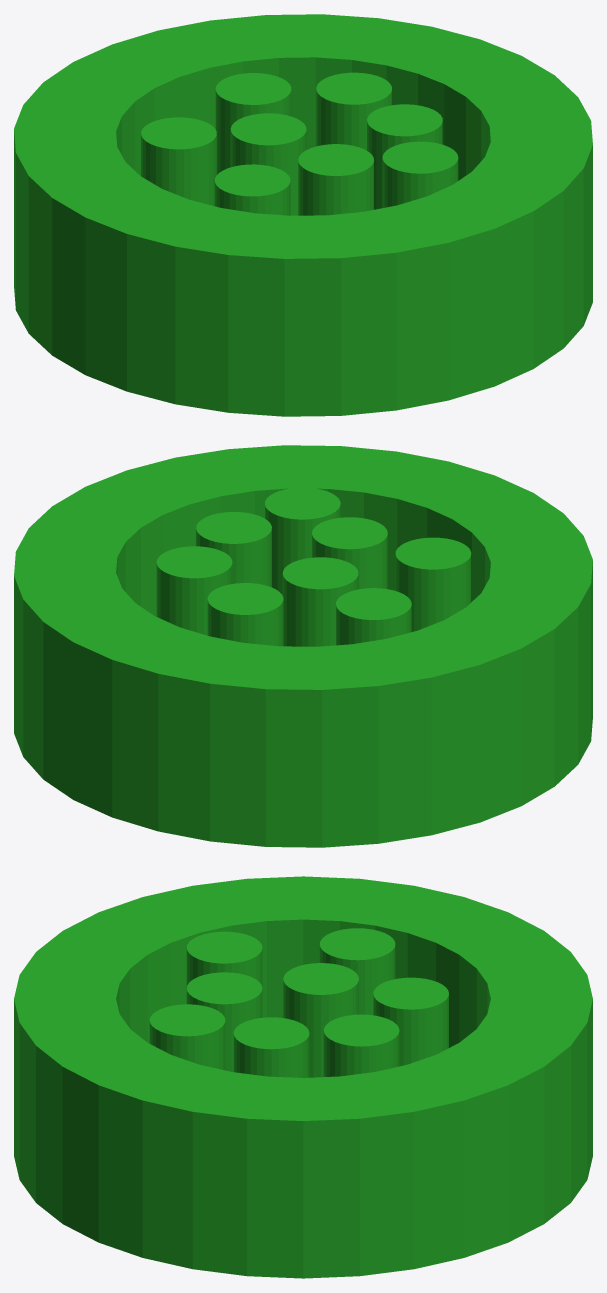
Rendered from heloma_miliar.gltf.
3 views of the same model, one above another, from view 1: azimuth 30°, elevation 25°; view 2: azimuth 150°, elevation 25°; view 3: azimuth 270°, elevation 25° (orthographic).
Visible parts, largest first — view 1: Cilindro, Cilindro.002, Cilindro.006, Cilindro.004, Cilindro.003, Cilindro.008, Cilindro.001, Cilindro.005, Cilindro.007; view 2: Cilindro, Cilindro.007, Cilindro.003, Cilindro.004, Cilindro.001, Cilindro.008, Cilindro.005, Cilindro.006, Cilindro.002; view 3: Cilindro, Cilindro.003, Cilindro.001, Cilindro.005, Cilindro.004, Cilindro.008, Cilindro.002, Cilindro.006, Cilindro.007.
Part boxes in pixels (box(x1,y1,x2,y2)): Cilindro: box(14, 14, 592, 416); Cilindro.002: box(141, 117, 216, 205); Cilindro.006: box(298, 144, 373, 215); Cilindro.004: box(316, 72, 391, 150); Cilindro.003: box(230, 113, 306, 215); Cilindro.008: box(382, 141, 458, 207); Cilindro.001: box(215, 73, 291, 174); Cilindro.005: box(367, 104, 442, 209); Cilindro.007: box(214, 164, 290, 215); Cilindro: box(14, 445, 592, 847); Cilindro.007: box(395, 537, 471, 631); Cilindro.003: box(282, 557, 358, 646); Cilindro.004: box(156, 546, 232, 635); Cilindro.001: box(207, 583, 283, 646); Cilindro.008: box(265, 487, 340, 595); Cilindro.005: box(196, 512, 271, 587); Cilindro.006: box(312, 517, 387, 589); Cilindro.002: box(336, 588, 411, 645); Cilindro: box(14, 876, 592, 1278); Cilindro.003: box(283, 963, 358, 1077); Cilindro.001: box(373, 977, 448, 1066); Cilindro.005: box(233, 1017, 309, 1077); Cilindro.004: box(323, 1014, 399, 1076); Cilindro.008: box(149, 1004, 225, 1070); Cilindro.002: box(319, 928, 395, 1015); Cilindro.006: box(186, 972, 262, 1071); Cilindro.007: box(186, 931, 262, 987).
Bounding box in the file's own units: 1.53 × 0.5 × 1.53.
